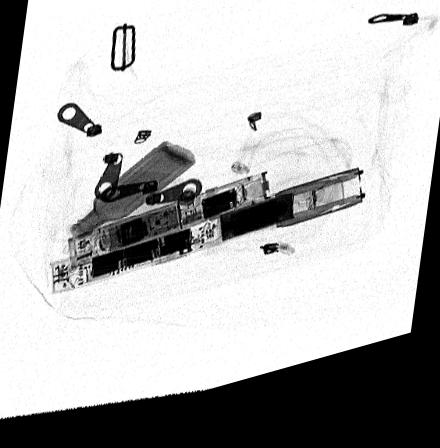Baton: (48, 186, 366, 298), (68, 185, 273, 274)
